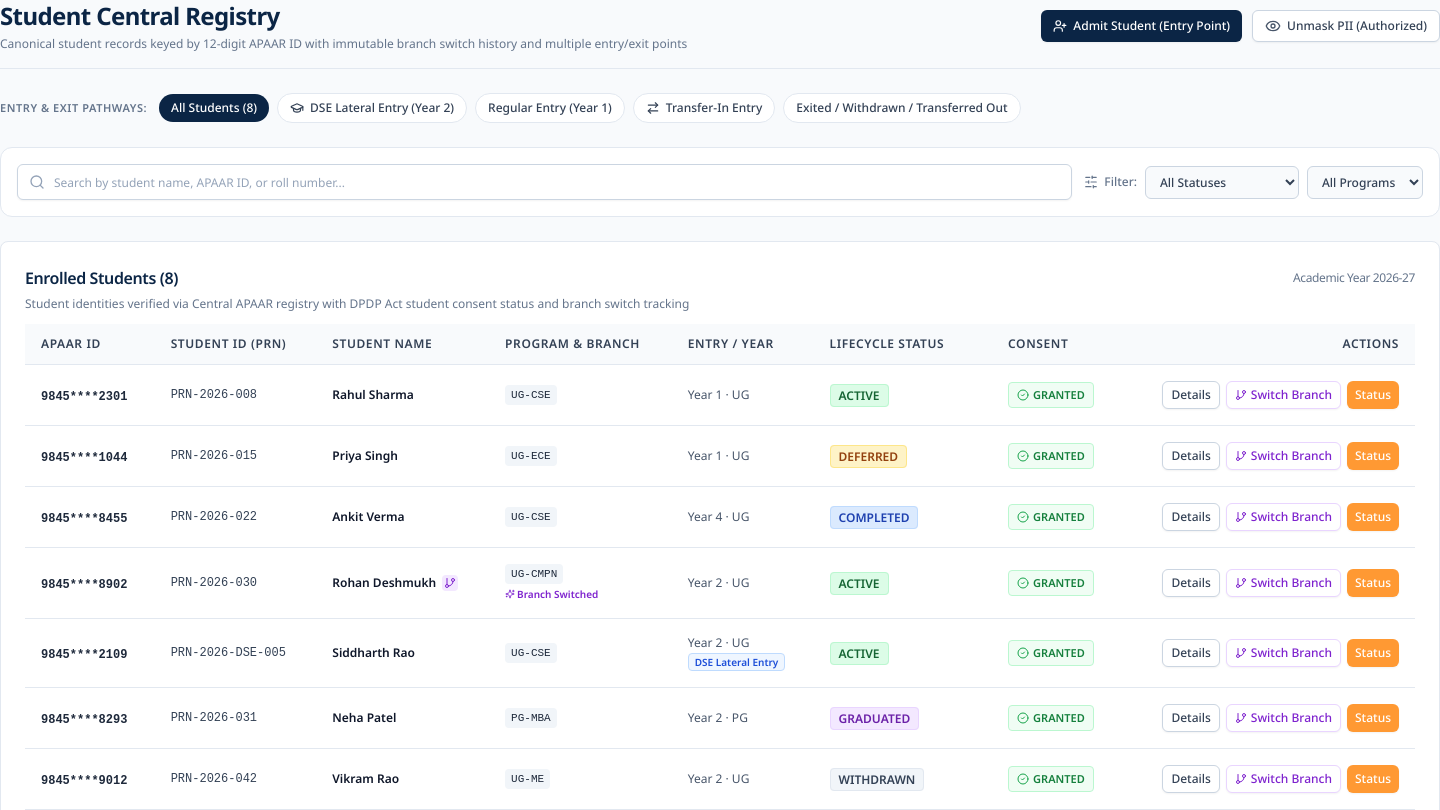
Test: Task A4: Institution Operations & Lifecycle Management › 1. Student Central Registry & Lifecycle Transitions (/institution/students) › transition dialog strictly enforces allowed transitions: DEFERRED allows only ACTIVE and WITHDRAWN
expect the text "Priya Singh" is shown: met, box top-left (332, 448), bottom-right (398, 464)
# Priya Singh is DEFERRED
Click the button with test id "change-status-btn-984589211044".
click(1373, 456)  # box top-left (1347, 442), bottom-right (1399, 470)
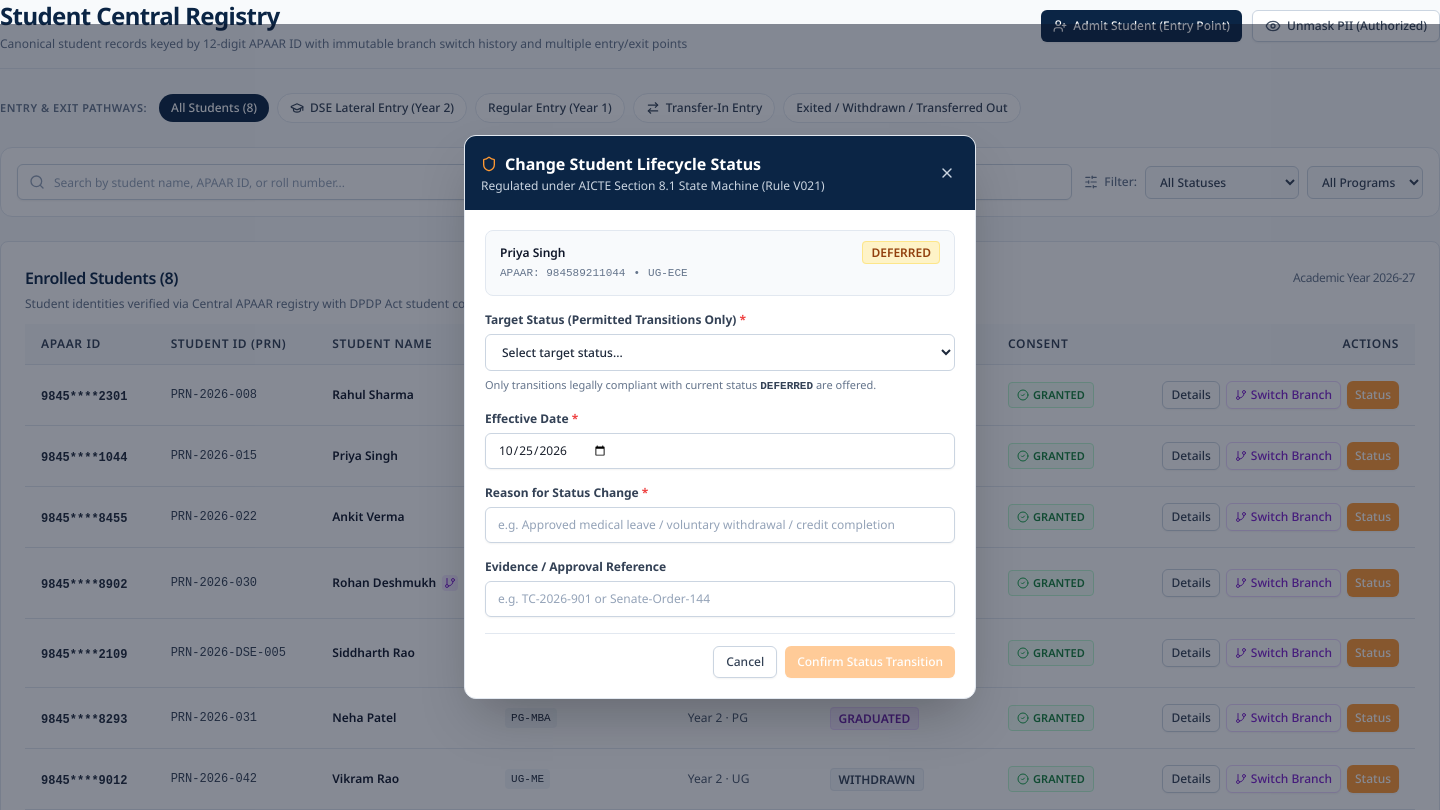
expect the dialog is shown: met
